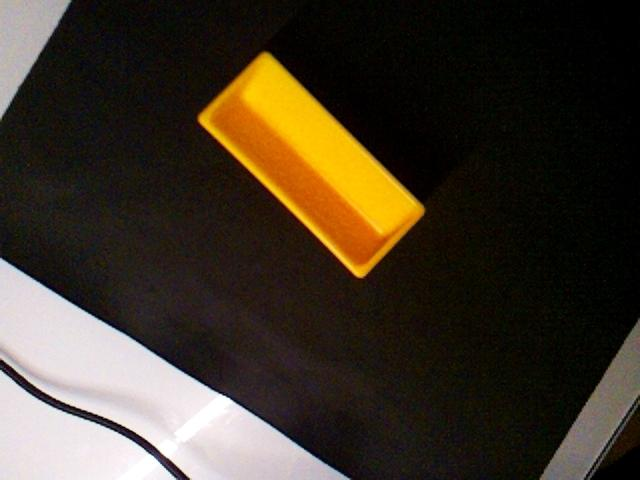yellow: (196, 49, 427, 280)
